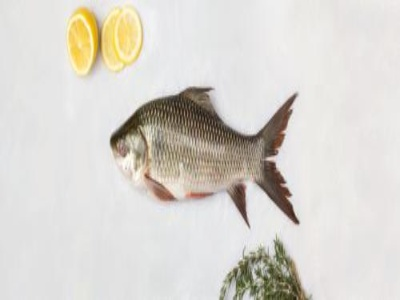rohu: (111, 86, 314, 231)
